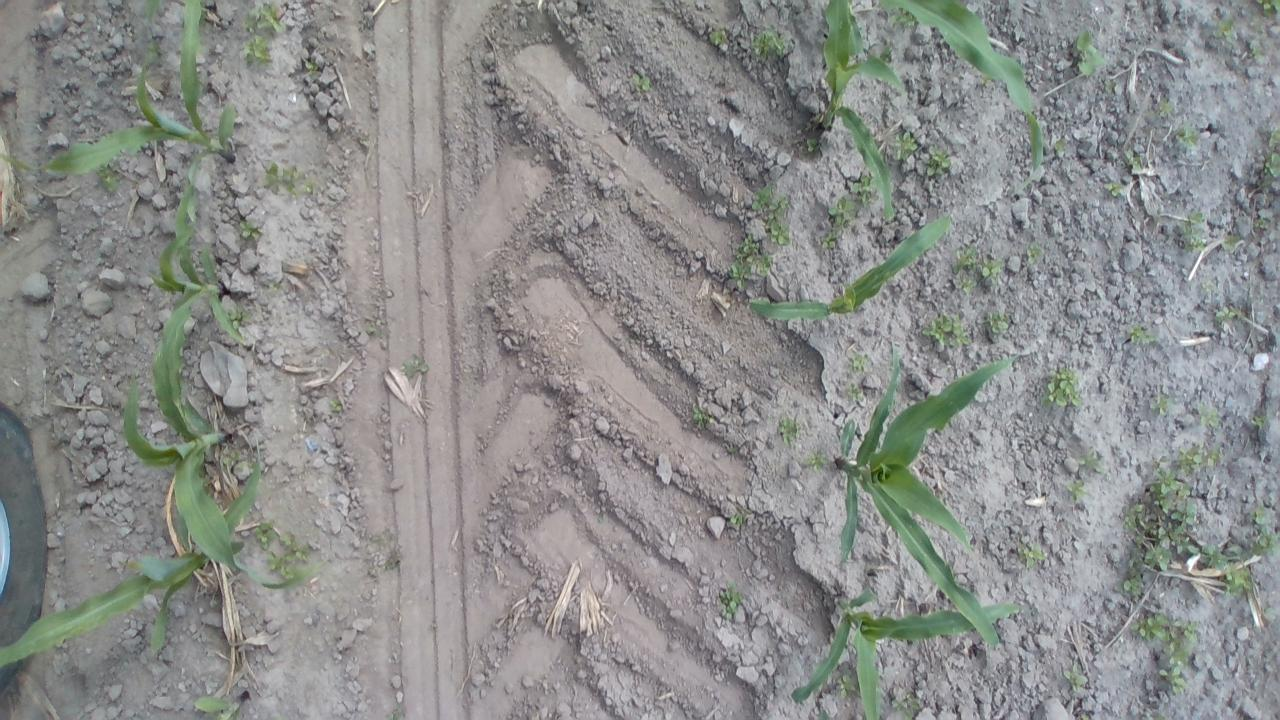Maize: (0, 432, 263, 666), (833, 339, 1026, 650), (0, 0, 241, 179), (122, 290, 249, 576), (876, 1, 1046, 200), (792, 588, 1026, 716), (746, 212, 953, 322), (811, 0, 906, 223), (146, 183, 252, 348)
Weeds: (1118, 445, 1278, 597), (733, 178, 791, 297), (1134, 612, 1196, 694), (255, 521, 325, 586), (950, 244, 1004, 294), (256, 161, 310, 198), (1040, 363, 1078, 413), (924, 316, 975, 348), (824, 198, 856, 247), (1182, 209, 1213, 254), (1076, 29, 1104, 74), (1062, 662, 1088, 696), (242, 38, 273, 66), (780, 414, 804, 449), (401, 356, 432, 382), (720, 582, 740, 622), (1022, 541, 1046, 574), (252, 4, 276, 36), (797, 449, 828, 472), (1195, 406, 1221, 433), (1080, 450, 1104, 479), (851, 176, 874, 204), (889, 698, 920, 718), (918, 150, 946, 172), (1216, 16, 1238, 44), (756, 30, 784, 52), (984, 311, 1008, 335), (95, 165, 117, 191), (892, 132, 916, 155), (1176, 123, 1195, 152), (1269, 129, 1280, 178), (1062, 476, 1085, 499), (365, 324, 394, 342), (1150, 394, 1172, 416), (830, 675, 856, 693), (223, 310, 246, 330), (1250, 2, 1280, 16), (888, 8, 912, 25), (1250, 414, 1270, 434), (386, 555, 406, 574), (1131, 330, 1157, 344), (1025, 242, 1043, 262), (224, 450, 241, 470), (1154, 102, 1174, 119), (1106, 180, 1128, 195), (1213, 307, 1237, 320), (1223, 242, 1242, 257), (694, 403, 706, 426), (850, 350, 865, 368), (851, 385, 865, 404), (1128, 152, 1142, 170), (241, 221, 255, 239), (630, 76, 650, 88), (1054, 136, 1067, 154), (731, 513, 746, 527), (302, 57, 316, 72), (332, 399, 344, 416), (709, 30, 722, 44), (389, 711, 406, 720), (368, 533, 380, 545), (268, 283, 278, 293)
